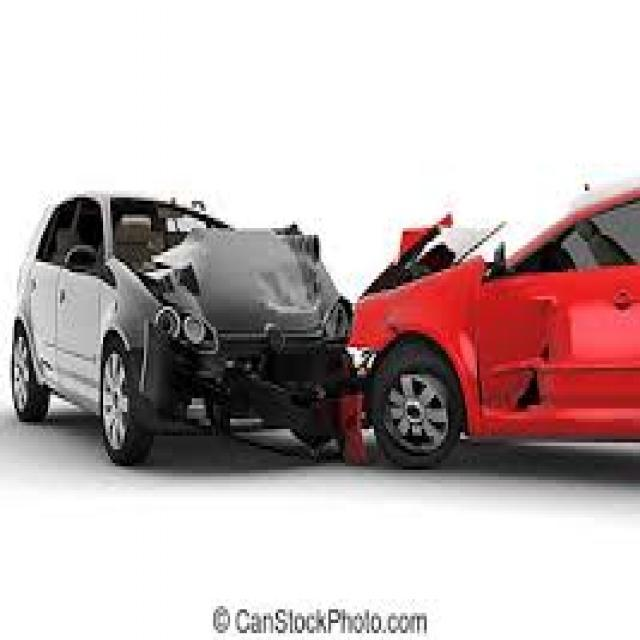accident: (0, 142, 630, 483)
